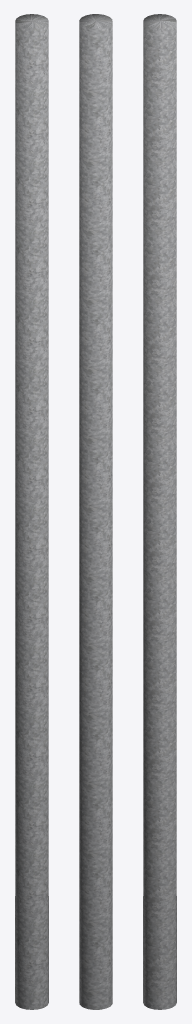
Rendered from Stahl_3500.glb.
3 views of the same model, side by side, from view 1: azimuth 90°, elevation 25°; view 2: azimuth 150°, elevation 25°; view 3: azimuth 270°, elevation 25° (orthographic).
Visible parts, largest first — view 1: Mast_3,5m_Metalogalva.001; view 2: Mast_3,5m_Metalogalva.001; view 3: Mast_3,5m_Metalogalva.001.
Part boxes in pixels (bbox=[...]): Mast_3,5m_Metalogalva.001: bbox=[15, 14, 48, 1009]; Mast_3,5m_Metalogalva.001: bbox=[79, 14, 112, 1009]; Mast_3,5m_Metalogalva.001: bbox=[143, 14, 176, 1009].
Size of the model in its own units: 0.1088 by 3.5 by 0.1088.
Materials: 1 (1 with a texture image).
